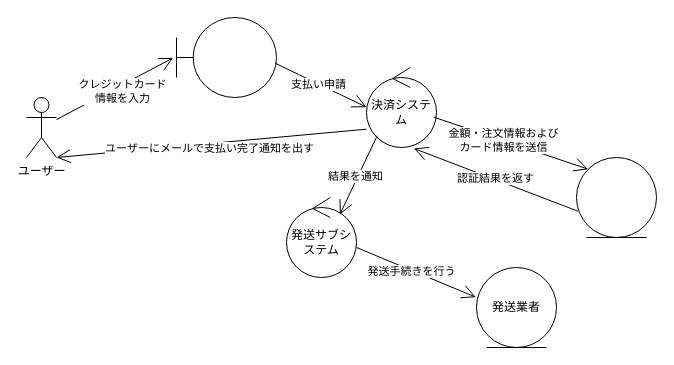
The diagram is 674 pixels wide and 365 high, and some of its shapes have lost their labels. Here are the shapes that lost their labels. From the top down, the centre of each, then its label:
point (226, 57): クレジットカード情報入力画面
point (616, 197): クレジットカード会社
